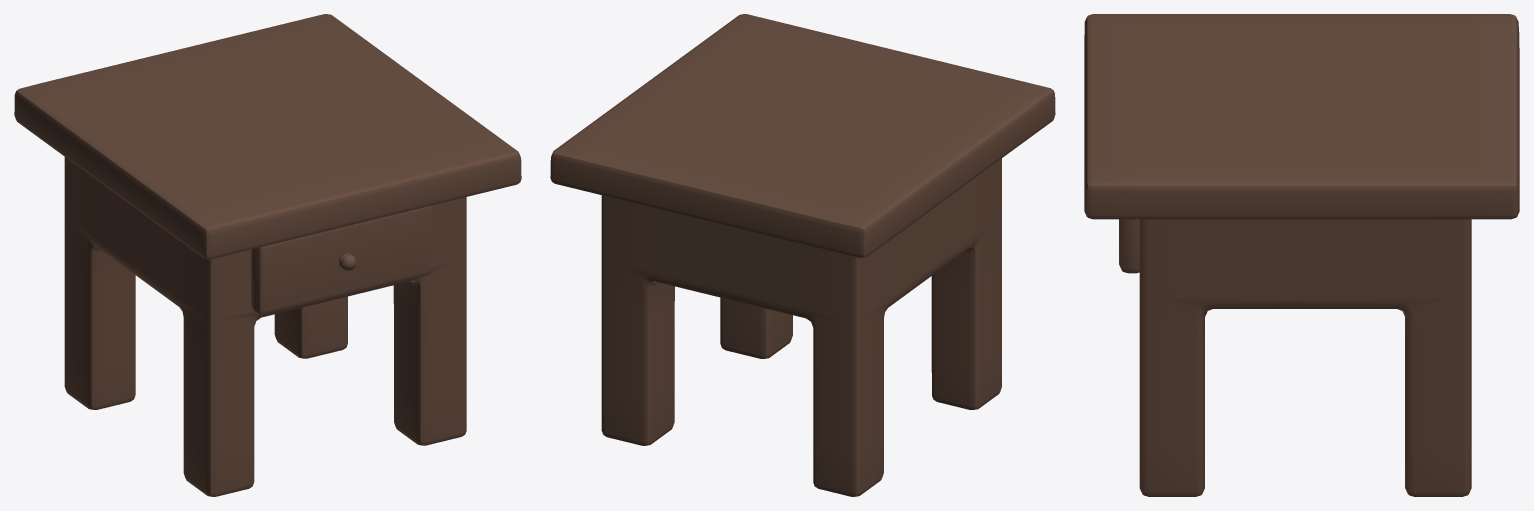
File: table_de_nuit.fbx
3 renders of one model, left to right at view 1: azimuth 30°, elevation 25°; view 2: azimuth 150°, elevation 25°; view 3: azimuth 270°, elevation 25°, orthographic. The views are drawn at different scales.
Visible parts, largest first — view 1: polySurface1, polySurface2; view 2: polySurface1; view 3: polySurface1, polySurface2.
Part boxes in pixels (box(x1,y1,x2,y2)): polySurface1: box(14, 14, 521, 496); polySurface2: box(251, 205, 432, 314); polySurface1: box(550, 14, 1055, 496); polySurface1: box(1084, 14, 1519, 496); polySurface2: box(1119, 219, 1139, 273).
Bounding box in the file's own units: 0.00832 × 0.00741 × 0.0088.
